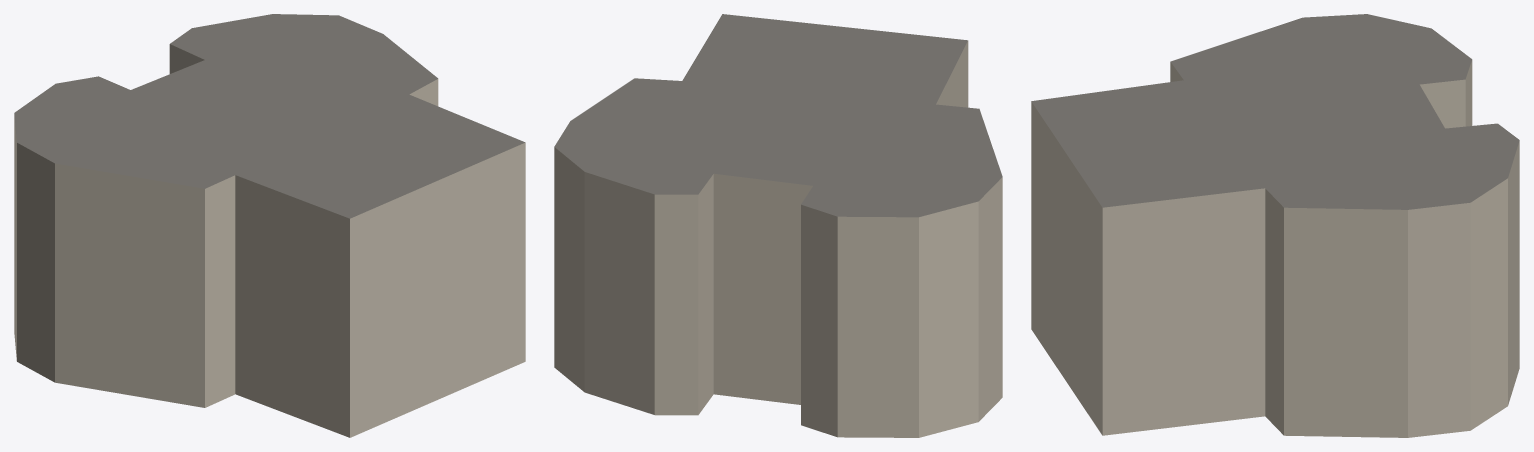
3 renders of one model, left to right at view 1: azimuth 30°, elevation 25°; view 2: azimuth 150°, elevation 25°; view 3: azimuth 270°, elevation 25°, orthographic. The views are drawn at different scales.
Parts seen in each view (by area): view 1: HP-w293416977; view 2: HP-w293416977; view 3: HP-w293416977.
Boxes of the visible parts, x1,y1,x2,y2 form: HP-w293416977: [14, 14, 525, 437]; HP-w293416977: [554, 14, 1002, 437]; HP-w293416977: [1031, 14, 1519, 437].
Bounding box in the file's own units: 33.17 × 18 × 34.95.
